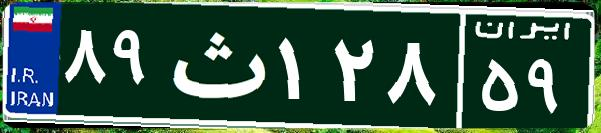1: (273, 28, 330, 110)
2: (330, 28, 385, 110)
5: (475, 38, 525, 113)
8: (385, 28, 445, 110), (57, 26, 110, 107)
9: (110, 28, 158, 105), (525, 38, 570, 115)
ث: (158, 15, 273, 115)
